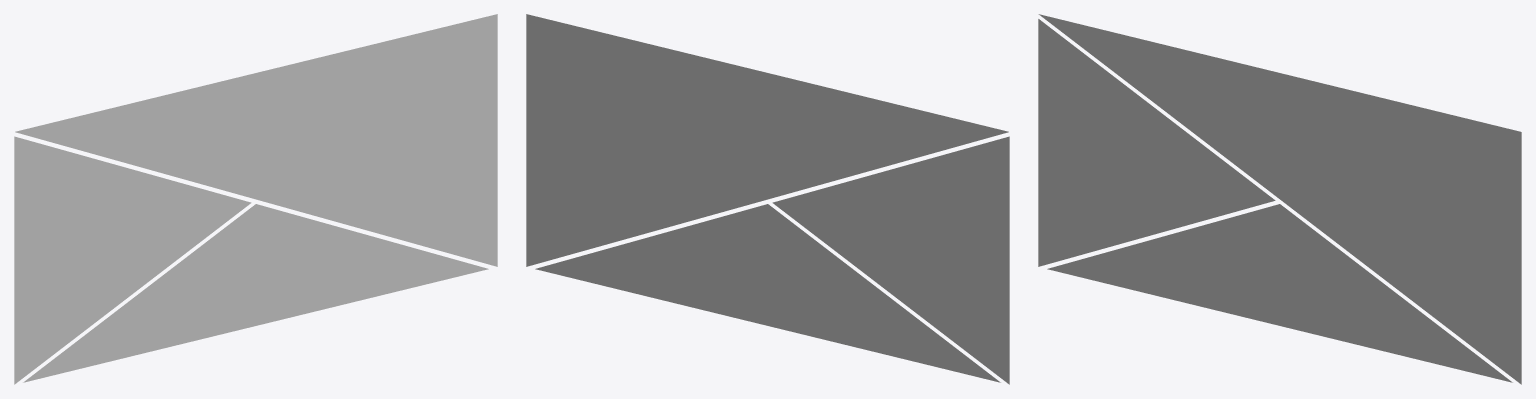
Rendered from palermocpn.gltf.
3 renders of one model, left to right at view 1: azimuth 30°, elevation 25°; view 2: azimuth 150°, elevation 25°; view 3: azimuth 330°, elevation 25°, orthographic.
Visible parts, largest first — view 1: palermo; view 2: palermo; view 3: palermo.
Boxes of the visible parts, <box> form: palermo: <box>14,14,497,384</box>; palermo: <box>526,14,1009,384</box>; palermo: <box>1038,14,1521,384</box>.
Size of the model in its own units: 203 by 102 by 2.3e-05.
Materials: 3 (3 with a texture image).
